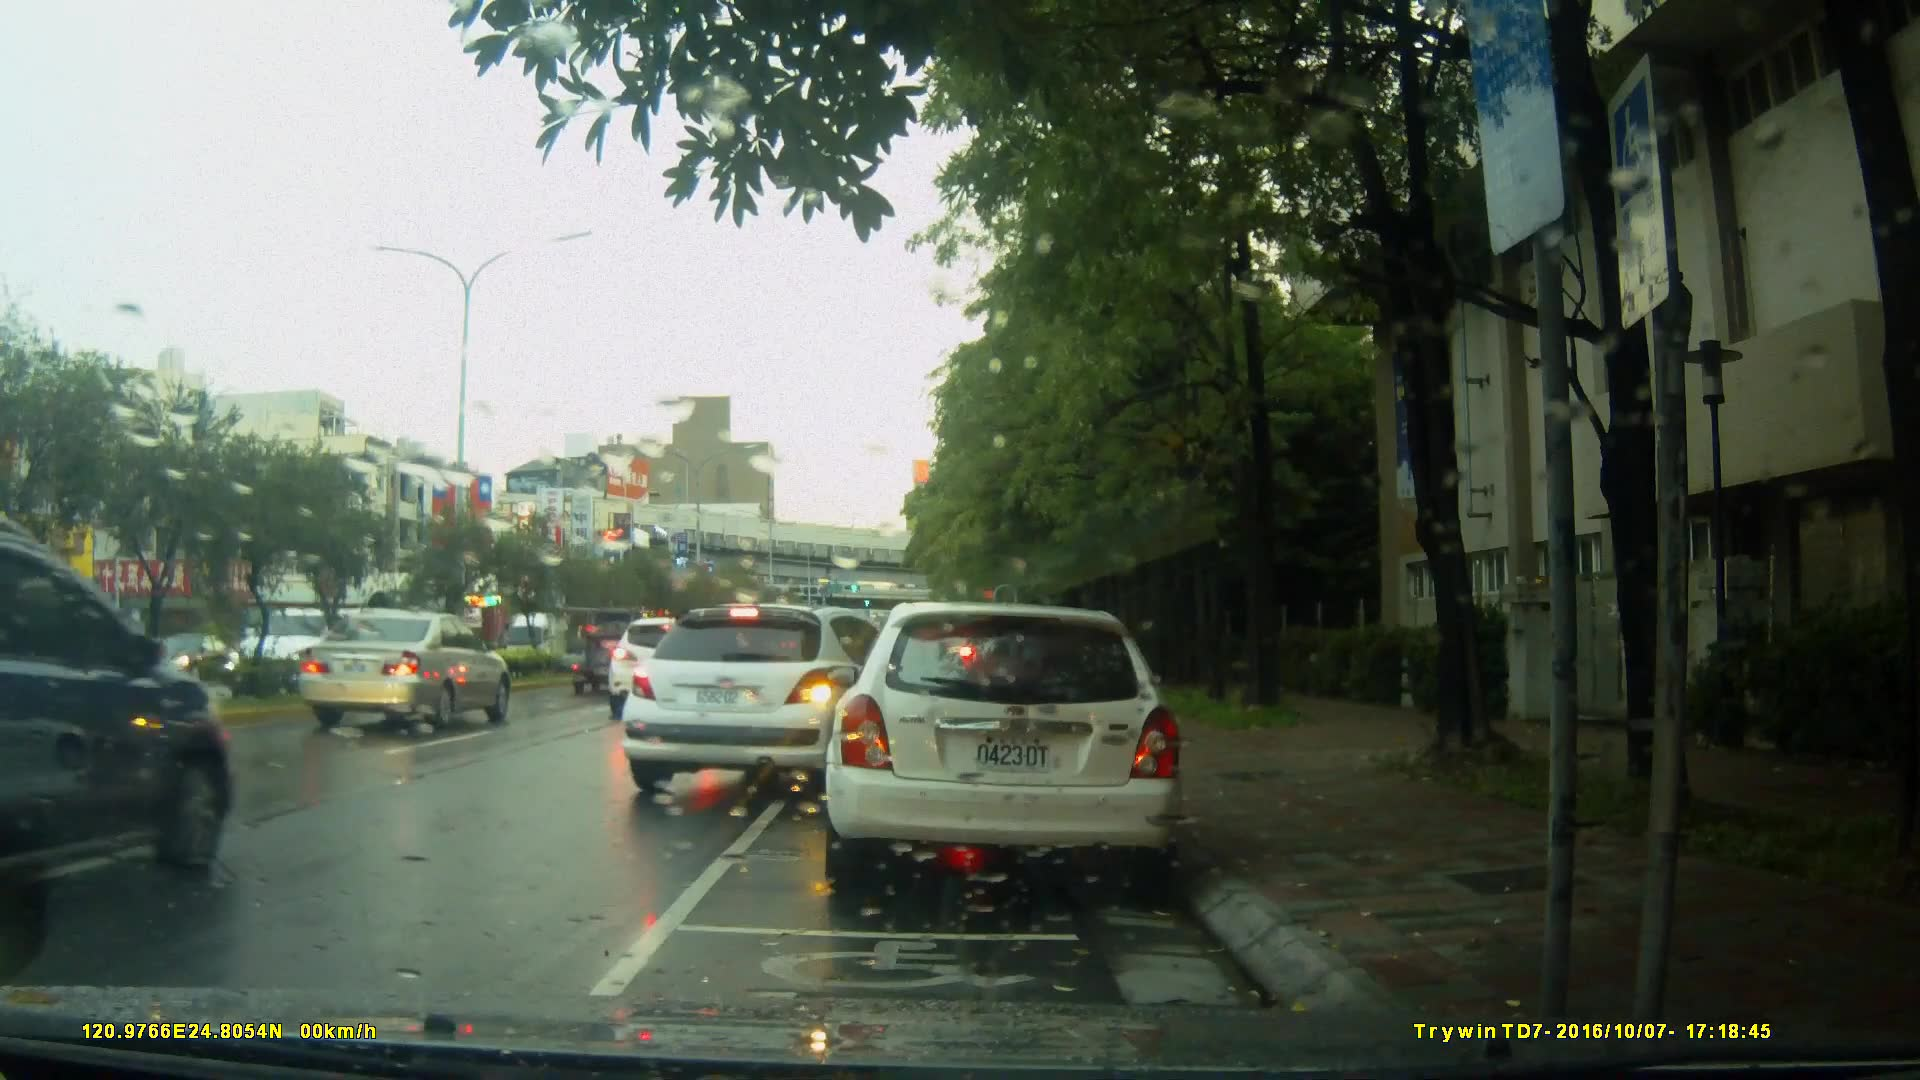vehicle: (820, 603, 1188, 898), (3, 517, 237, 915), (625, 601, 935, 802), (295, 612, 513, 731)
